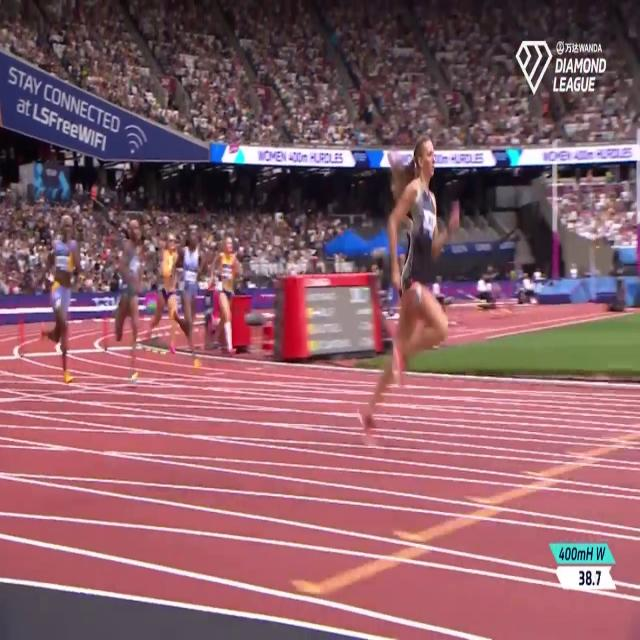athlete: (358, 128, 464, 434), (44, 204, 78, 387), (208, 228, 243, 366), (147, 232, 181, 364), (180, 215, 207, 378), (117, 210, 142, 386)
hurdle: (108, 300, 149, 360), (66, 304, 108, 356), (23, 307, 63, 358), (0, 300, 23, 360)
